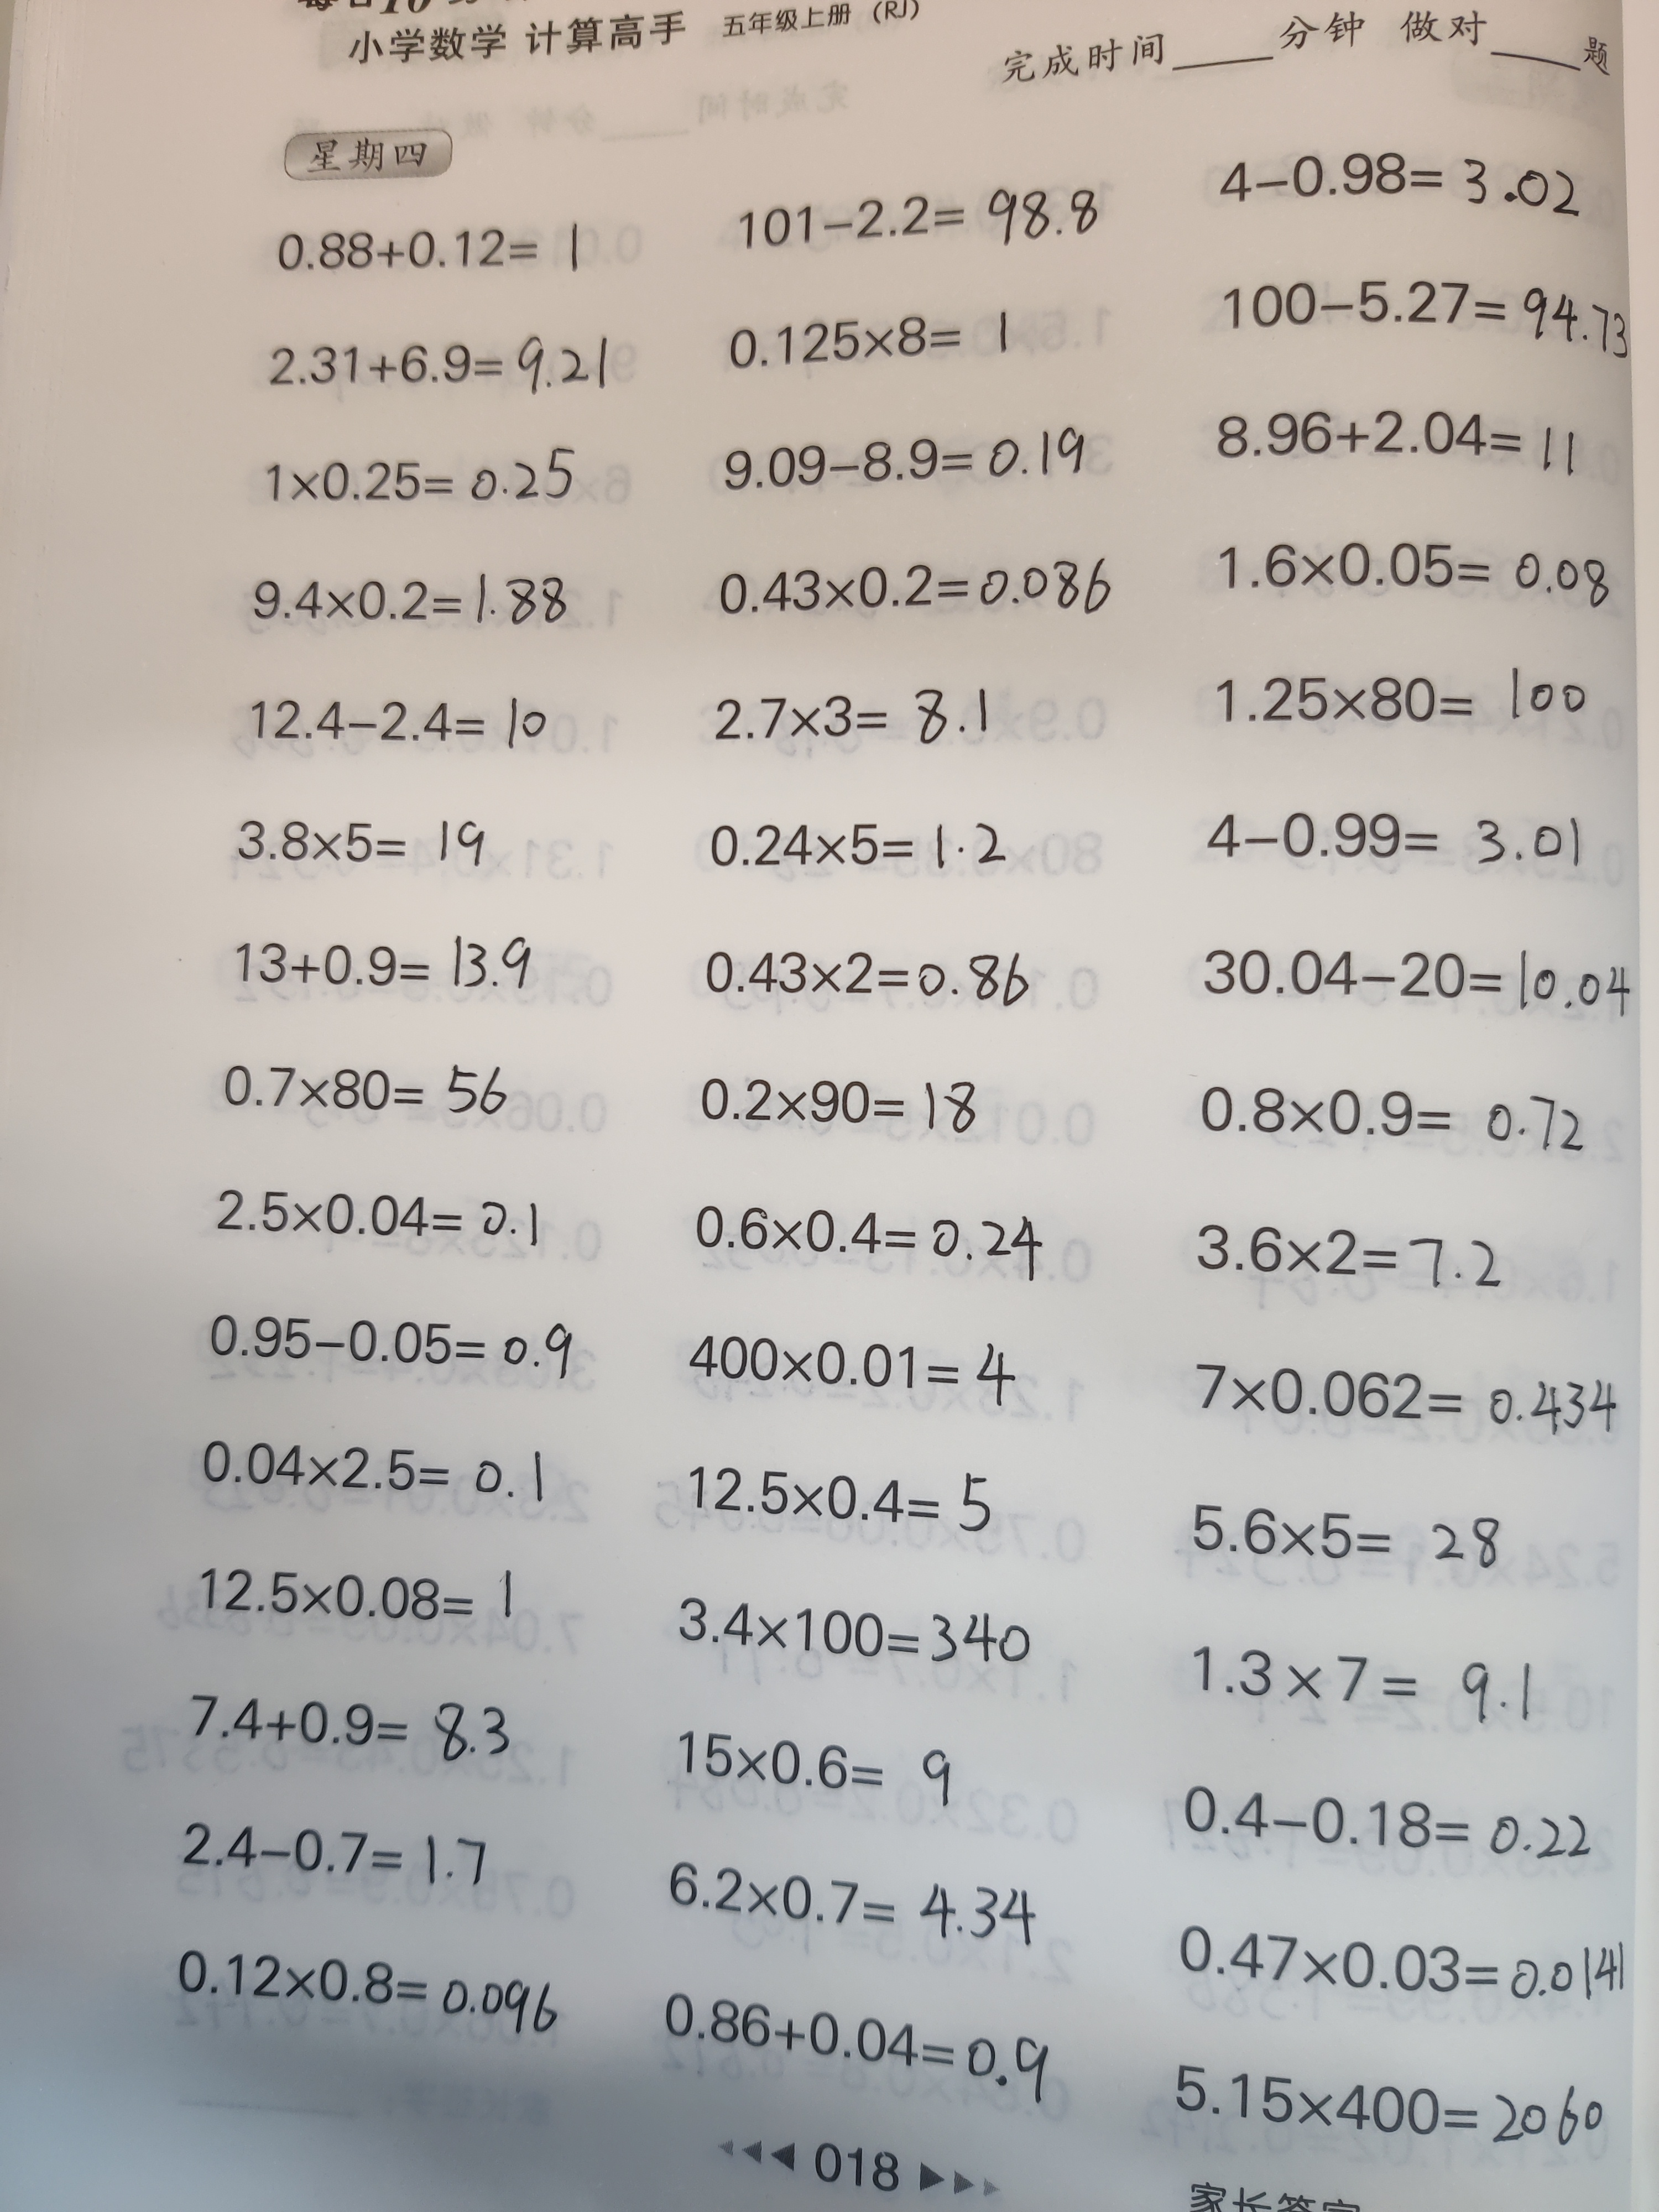equation: (153, 1930, 573, 2062), (1169, 2041, 1610, 2161), (655, 1980, 1061, 2109), (1188, 921, 1631, 1026), (1168, 1904, 1633, 2003), (1169, 1770, 1610, 1872), (1176, 1345, 1629, 1442), (701, 533, 1119, 637), (674, 1176, 1053, 1289), (1176, 1623, 1549, 1737), (199, 1296, 594, 1402), (727, 153, 1112, 261), (167, 1670, 537, 1782), (662, 1846, 1044, 1952), (1206, 381, 1593, 486), (183, 1426, 573, 1529), (1183, 1066, 1593, 1163), (1211, 120, 1581, 228), (669, 1575, 1037, 1683), (664, 1709, 986, 1831), (249, 310, 629, 413), (1206, 519, 1612, 613), (214, 1036, 537, 1155), (669, 1447, 1012, 1554), (1169, 1480, 1511, 1587), (1192, 786, 1600, 874), (213, 911, 547, 1019), (676, 1317, 1035, 1414), (1188, 1197, 1518, 1303), (681, 925, 1053, 1019), (1208, 653, 1598, 740), (246, 430, 598, 526), (195, 1174, 570, 1263), (244, 554, 591, 650), (173, 1806, 509, 1904), (685, 1055, 1004, 1157), (193, 1554, 547, 1642), (694, 801, 1019, 897), (260, 204, 606, 293), (713, 421, 1112, 498), (232, 672, 563, 765), (720, 298, 1073, 381), (214, 798, 528, 892), (699, 669, 1009, 763)
